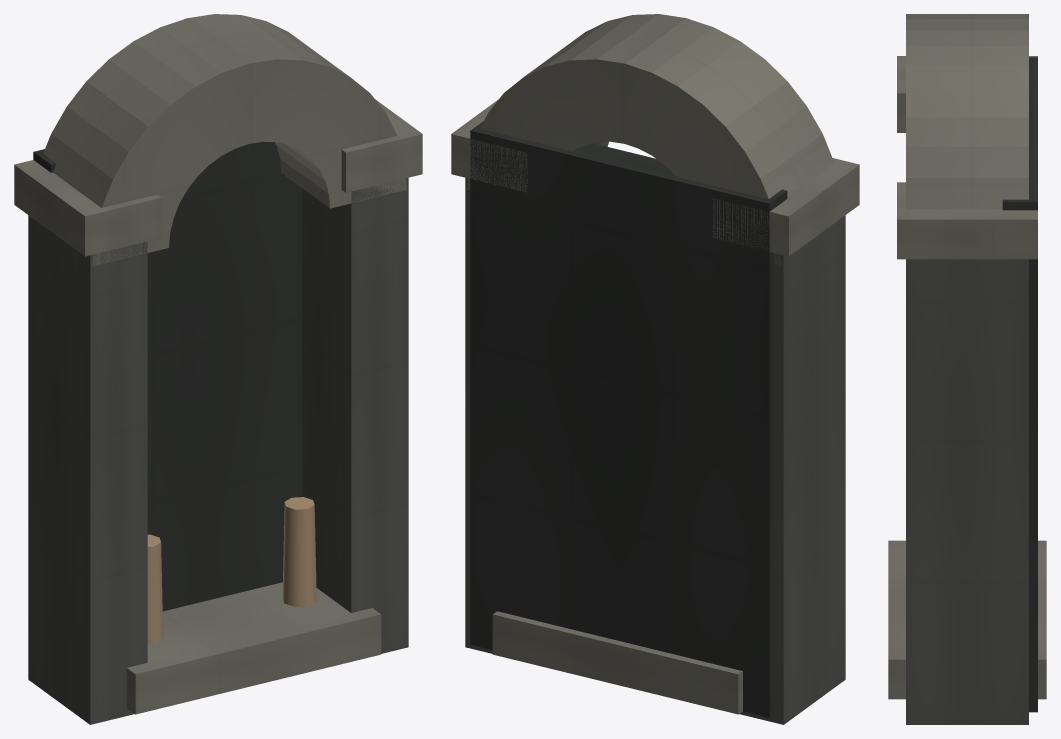
Rendered from sk-crypt-niche.glb.
The picture shows the model from 3 angles, left to right: view 1: azimuth 30°, elevation 25°; view 2: azimuth 150°, elevation 25°; view 3: azimuth 270°, elevation 25°; orthographic projection.
Parts seen in each view (by area): view 1: interior:crypt_niche-static-niche-stone, interior:crypt_niche-static-niche-trim, niche-back, interior:crypt_niche-static-niche-candle; view 2: niche-back, interior:crypt_niche-static-niche-trim, interior:crypt_niche-static-niche-stone; view 3: interior:crypt_niche-static-niche-stone, interior:crypt_niche-static-niche-trim, niche-back.
Boxes of the visible parts, <box> form: interior:crypt_niche-static-niche-stone: <box>28,177,408,724</box>; interior:crypt_niche-static-niche-trim: <box>14,14,422,714</box>; niche-back: <box>33,141,302,611</box>; interior:crypt_niche-static-niche-candle: <box>147,497,316,643</box>; niche-back: <box>470,121,787,717</box>; interior:crypt_niche-static-niche-trim: <box>451,14,859,714</box>; interior:crypt_niche-static-niche-stone: <box>465,177,845,724</box>; interior:crypt_niche-static-niche-stone: <box>906,259,1028,724</box>; interior:crypt_niche-static-niche-trim: <box>888,14,1046,699</box>; niche-back: <box>1002,57,1037,712</box>.
Size of the model in its own units: 0.88 by 1.55 by 0.36.
4 materials, 3 textured.
